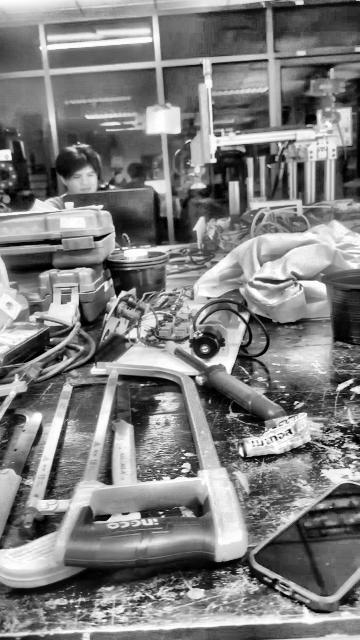pot: (320, 269, 360, 346)
